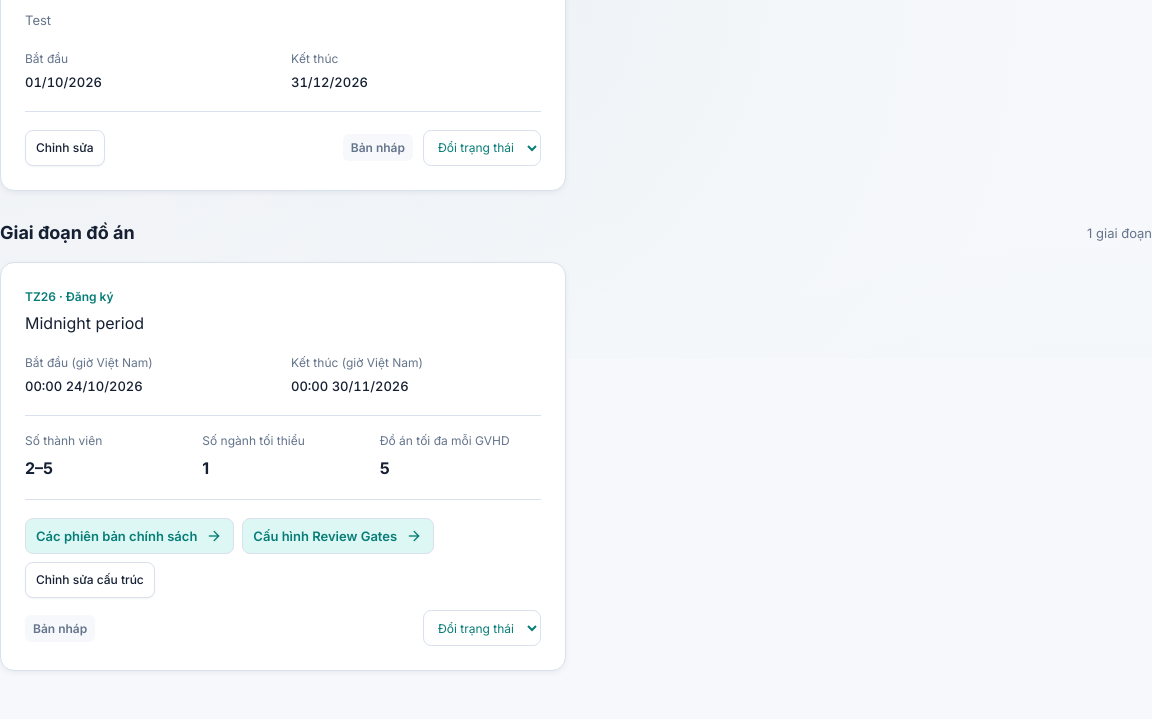
Scenario: Vietnam academic time at the form boundary › keeps three period edit/save round trips stable even when datetime2 responses omit Z
(page scrolled)
Click the button "Chỉnh sửa cấu trúc" at (90, 580), box [25,562,155,598]
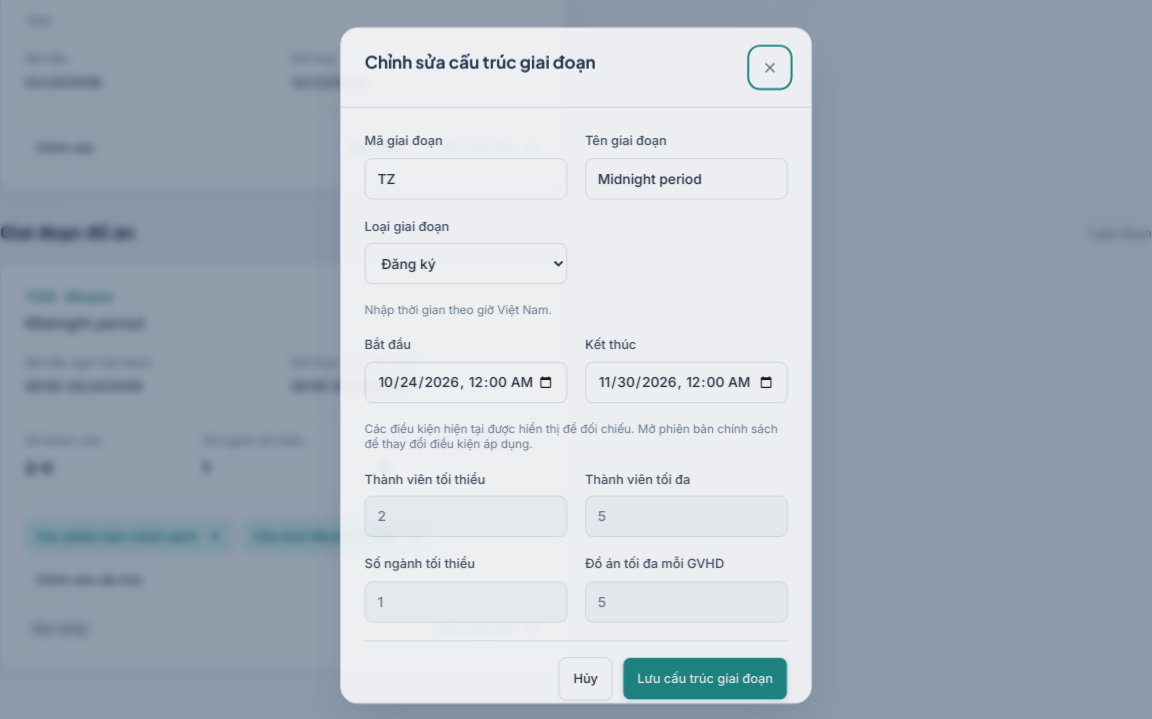
Result: the field labelled "Bắt đầu" holds "2026-10-24T00:00" at [361,355,567,397]
Submit the form labelled "Mã giai đoạn", box [361,121,791,699]
(page scrolled)
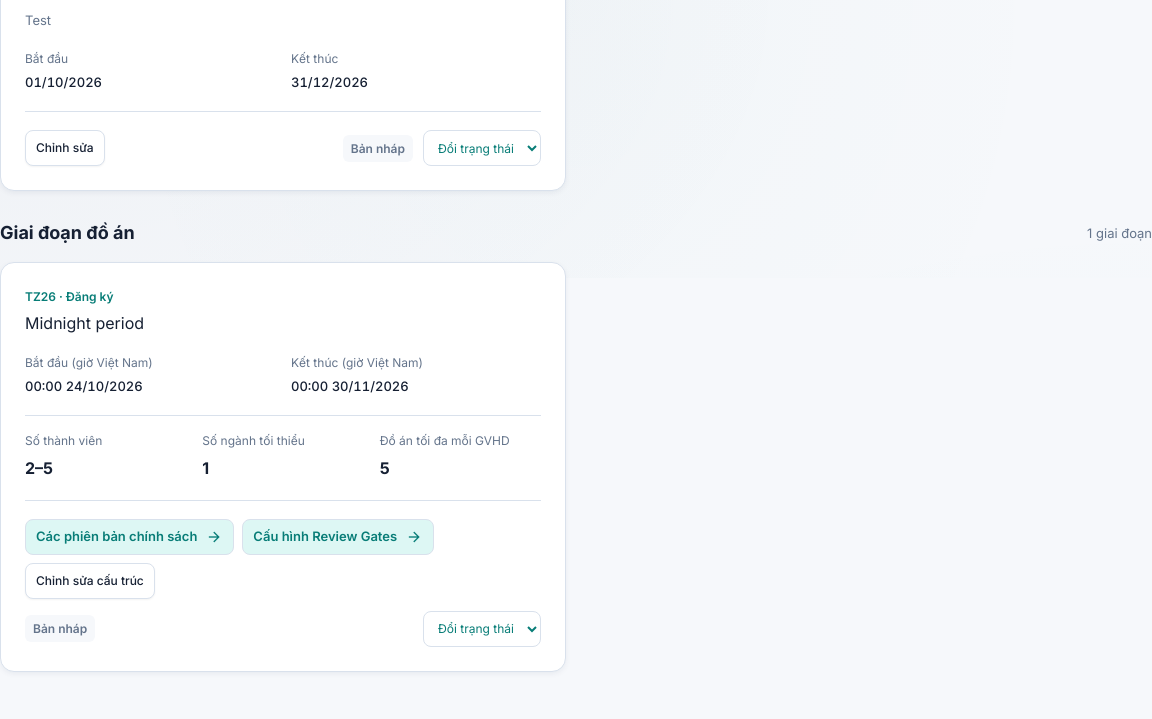
Result: the dialog is gone
Click the button "Chỉnh sửa cấu trúc" at (90, 581), box [25,563,155,599]
(page scrolled)
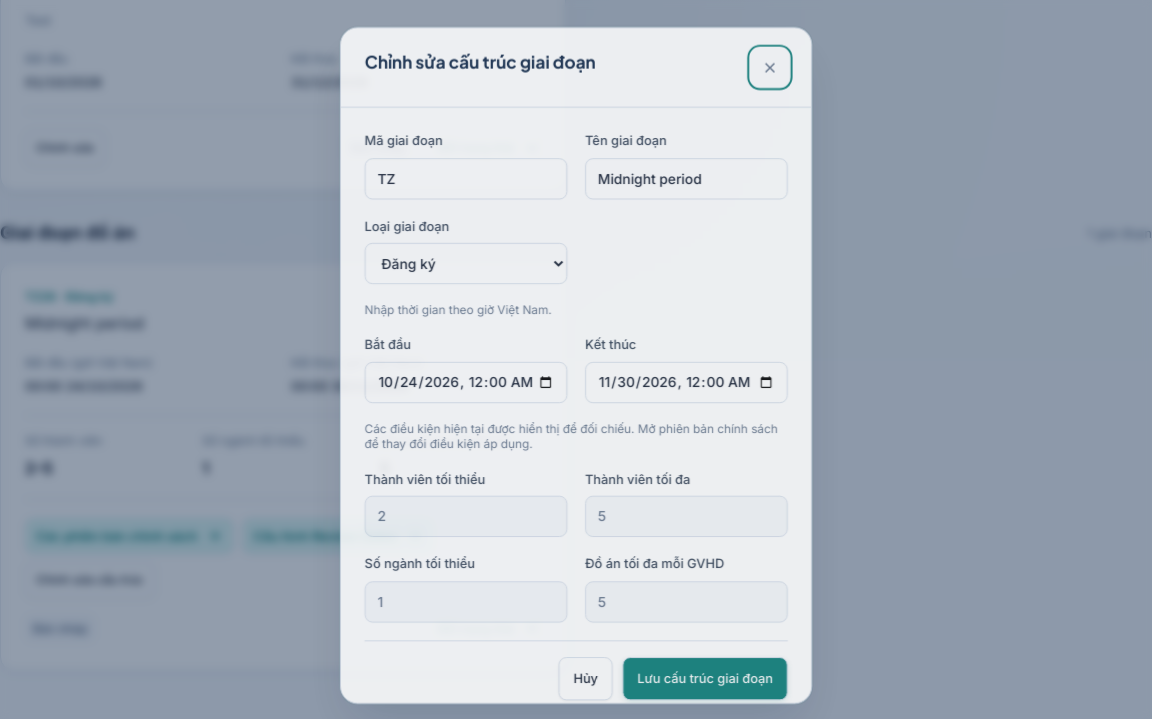
Result: the field labelled "Bắt đầu" holds "2026-10-24T00:00" at [361,355,567,397]
Submit the form labelled "Mã giai đoạn", box [361,121,791,699]
(page scrolled)
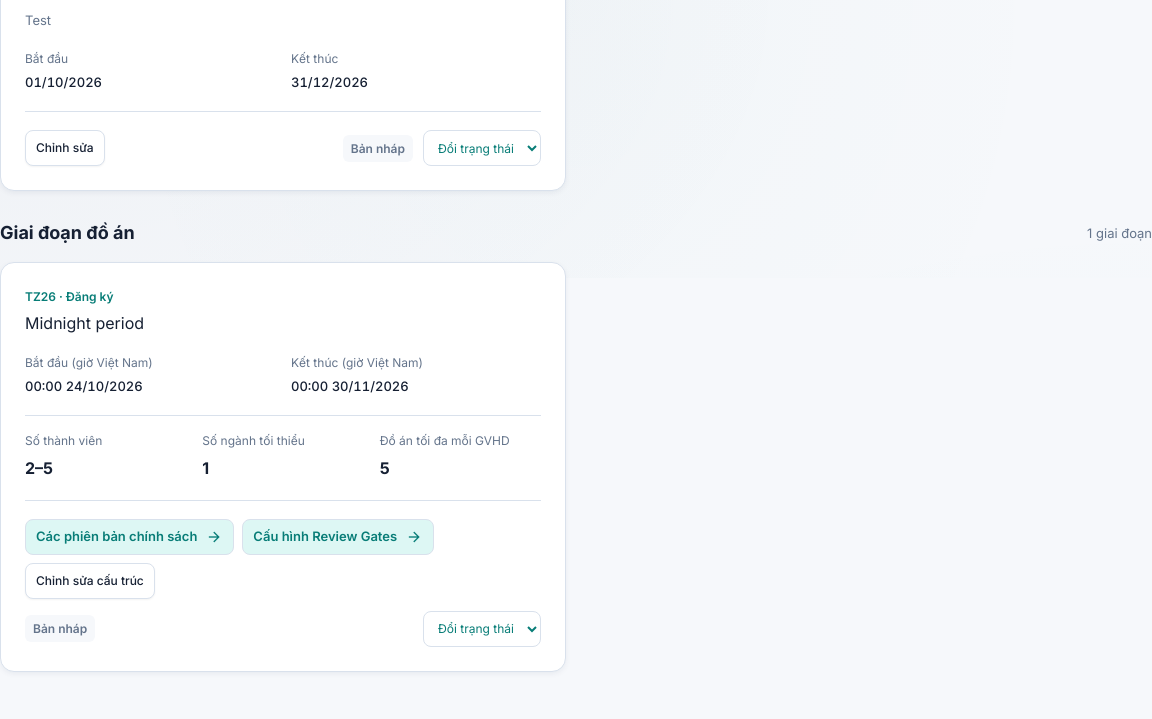
Result: the dialog is gone
Click the button "Chỉnh sửa cấu trúc" at (90, 581), box [25,563,155,599]
(page scrolled)
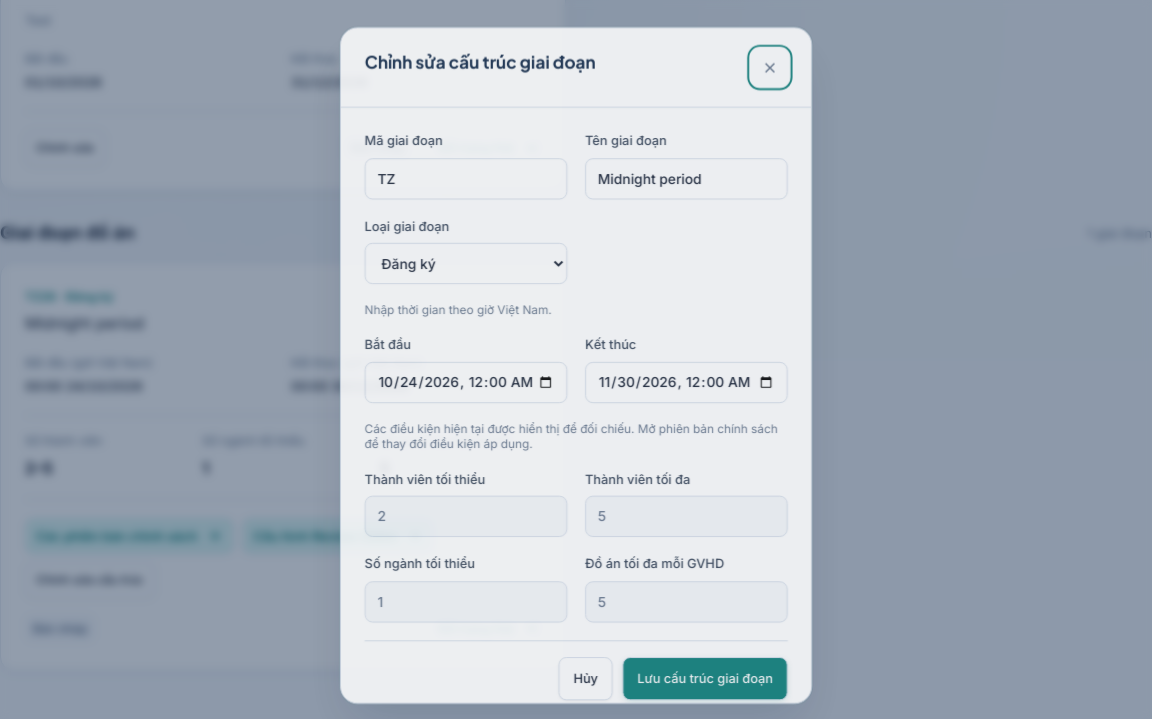
Result: the field labelled "Bắt đầu" holds "2026-10-24T00:00" at [361,355,567,397]
Submit the form labelled "Mã giai đoạn", box [361,121,791,699]
(page scrolled)
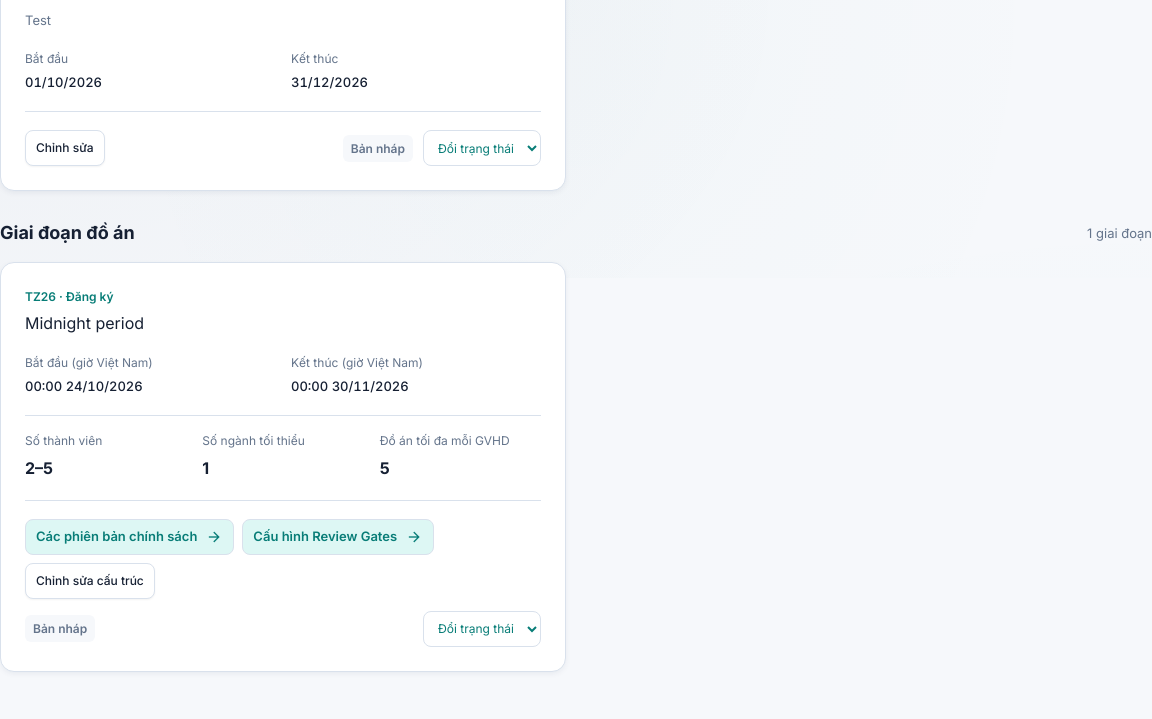
Result: the dialog is gone
